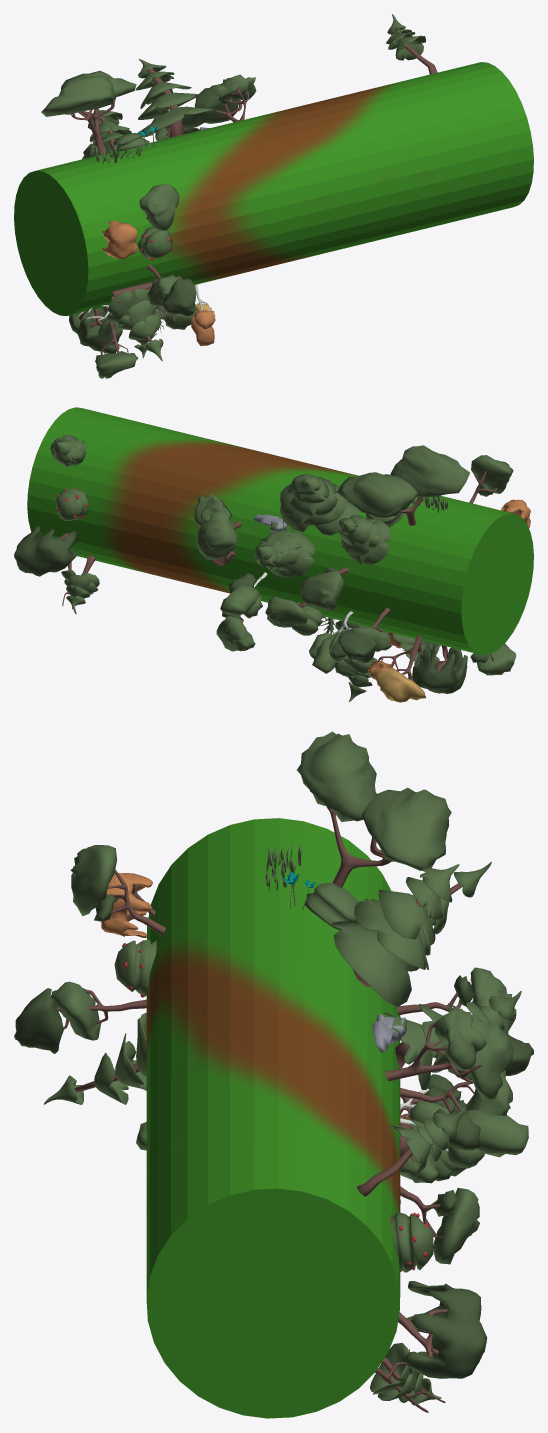
3 views of the same model, one above another, from view 1: azimuth 30°, elevation 25°; view 2: azimuth 150°, elevation 25°; view 3: azimuth 270°, elevation 25° (orthographic). The views are drawn at different scales.
Parts seen in each view (by area): view 1: Cylinder; view 2: Cylinder; view 3: Cylinder.
Boxes of the visible parts, x1,y1,x2,y2 form: Cylinder: (14,14,533,378); Cylinder: (14,407,533,702); Cylinder: (14,731,533,1418).
Size of the model in its own units: 20.05 by 11.31 by 11.89.
Materials: 93 (1 with a texture image).
